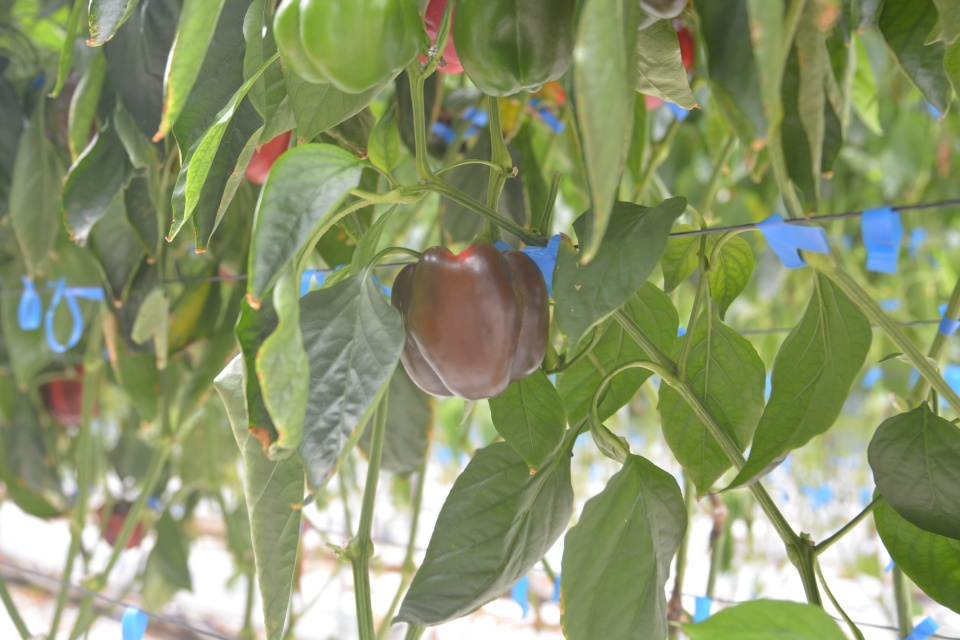fruit: (386, 232, 554, 405), (268, 0, 432, 98), (448, 0, 580, 100), (39, 357, 102, 426), (96, 496, 148, 551)
